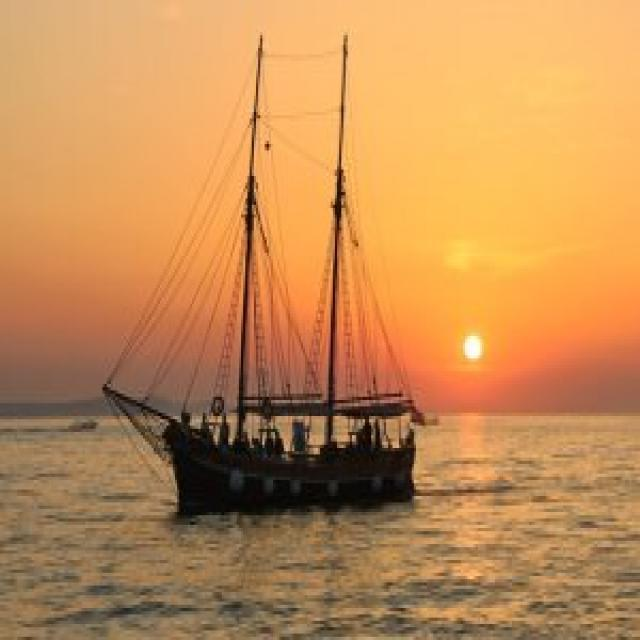Ship: (91, 17, 441, 536)
